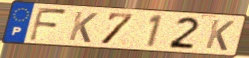1: (146, 14, 163, 49)
2: (168, 16, 202, 51)
7: (101, 12, 136, 46)
F: (27, 6, 69, 43)
K: (203, 18, 237, 52), (67, 10, 100, 44)
